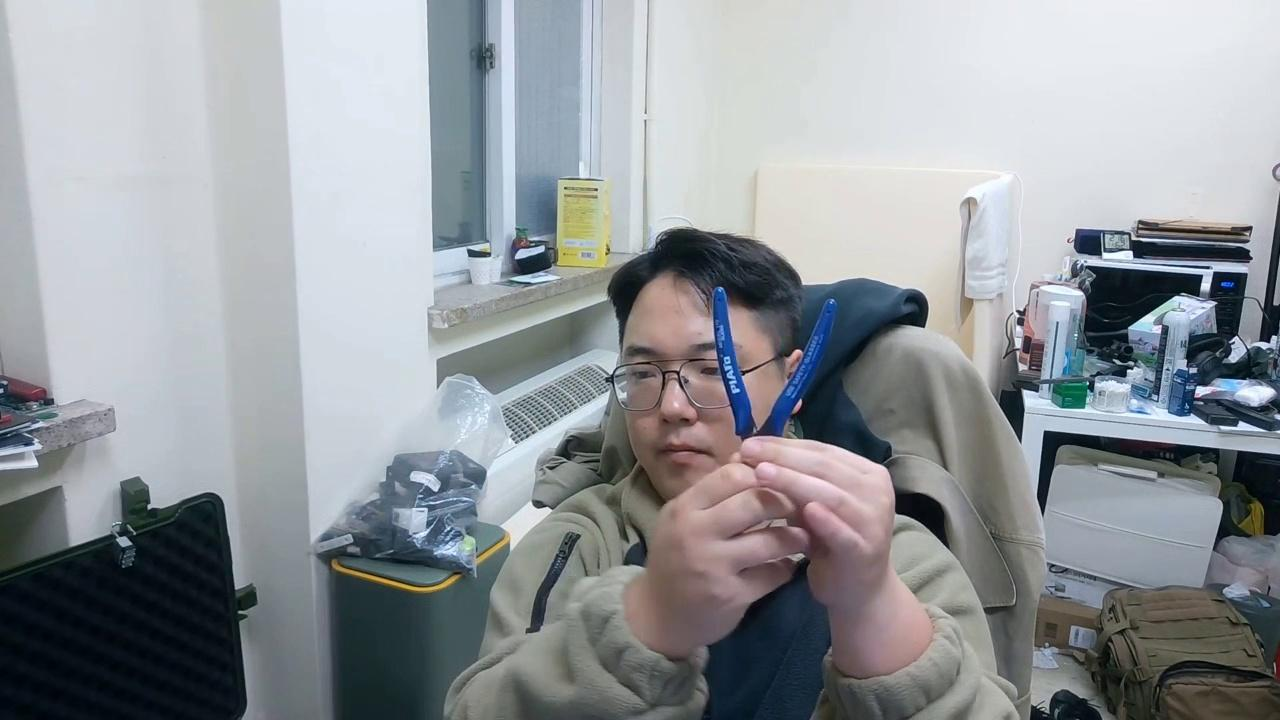blue_pliers: (708, 285, 839, 442)
